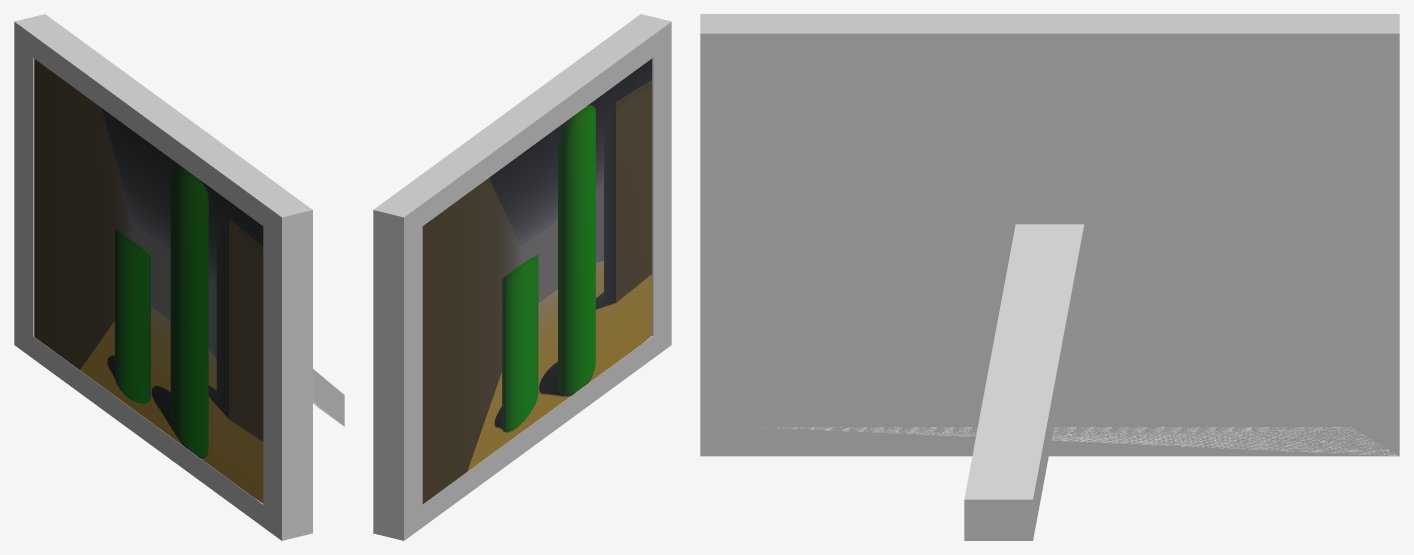
The model's file is Photograph2.fbx.
3 renders of one model, left to right at view 1: azimuth 30°, elevation 25°; view 2: azimuth 150°, elevation 25°; view 3: azimuth 270°, elevation 25°, orthographic. The views are drawn at different scales.
Parts seen in each view (by area): view 1: Photograph, PhotoFrame; view 2: Photograph, PhotoFrame; view 3: PhotoFrame.
Part boxes in pixels (x1=…): Photograph: x1=34, y1=59, x2=263, y2=503; PhotoFrame: x1=14, y1=14, x2=344, y2=540; Photograph: x1=422, y1=59, x2=651, y2=504; PhotoFrame: x1=373, y1=14, x2=671, y2=540; PhotoFrame: x1=700, y1=14, x2=1399, y2=540.
Bounding box in the file's own units: 21.2 × 40 × 60.
